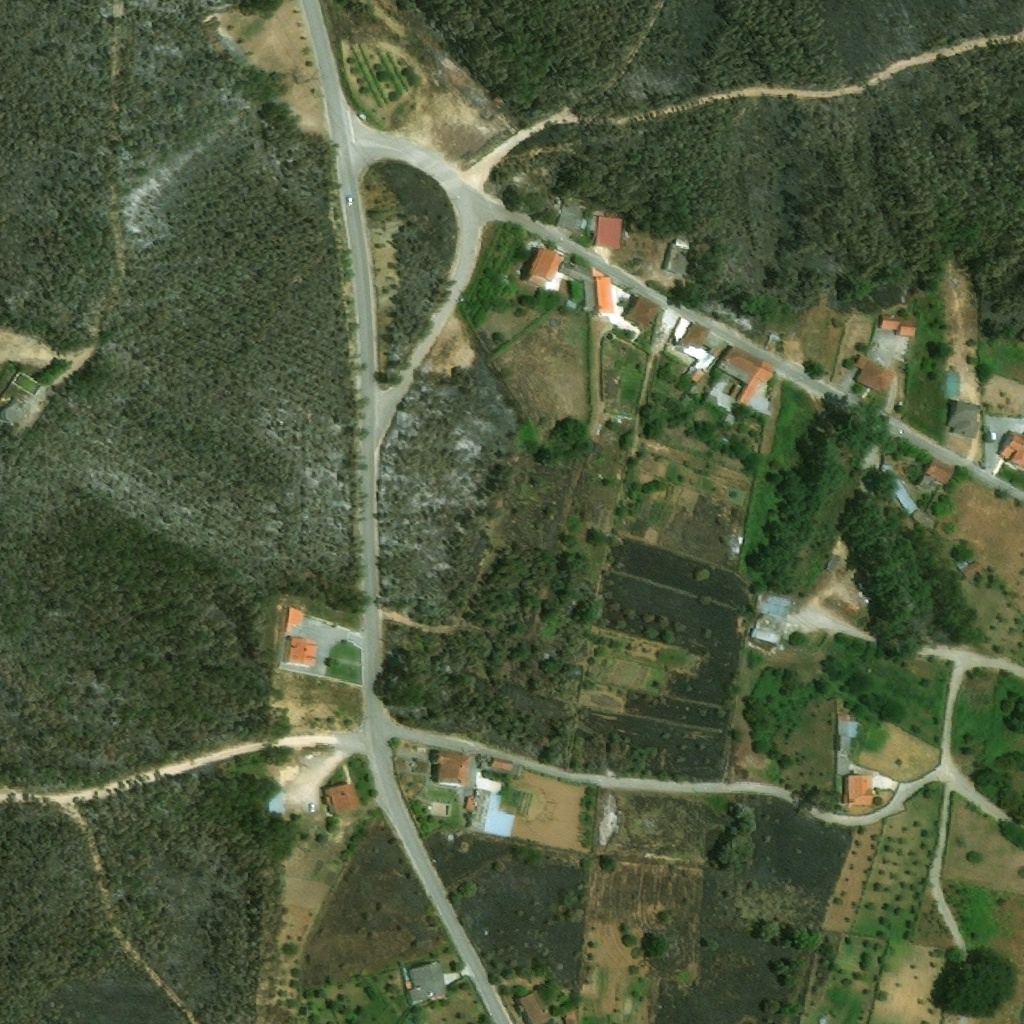0 no-damage: (558, 261, 610, 314), (716, 346, 762, 384), (406, 960, 446, 1003), (679, 322, 726, 357), (739, 360, 775, 405), (855, 356, 896, 395), (522, 248, 561, 285), (705, 372, 739, 413), (914, 458, 955, 491), (437, 750, 474, 786), (946, 401, 979, 439), (320, 783, 360, 814), (627, 296, 661, 331), (516, 990, 552, 1023), (888, 475, 916, 513), (750, 614, 785, 644), (844, 771, 873, 806), (752, 594, 792, 619), (285, 637, 317, 668), (683, 343, 716, 372), (596, 215, 623, 250), (998, 431, 1023, 466), (879, 315, 916, 337), (664, 244, 691, 274), (837, 715, 859, 751), (597, 277, 614, 313), (264, 788, 283, 819), (283, 606, 304, 634), (958, 560, 984, 580), (672, 317, 692, 343), (944, 371, 959, 396), (491, 758, 513, 772), (910, 509, 928, 525), (836, 759, 850, 775), (690, 369, 705, 383), (563, 1007, 576, 1023), (955, 557, 970, 570), (465, 796, 474, 811), (880, 465, 891, 475), (730, 385, 740, 396), (495, 779, 503, 787)
3 destroyed: (0, 396, 31, 422)
4 un-classified: (818, 1018, 826, 1023)
